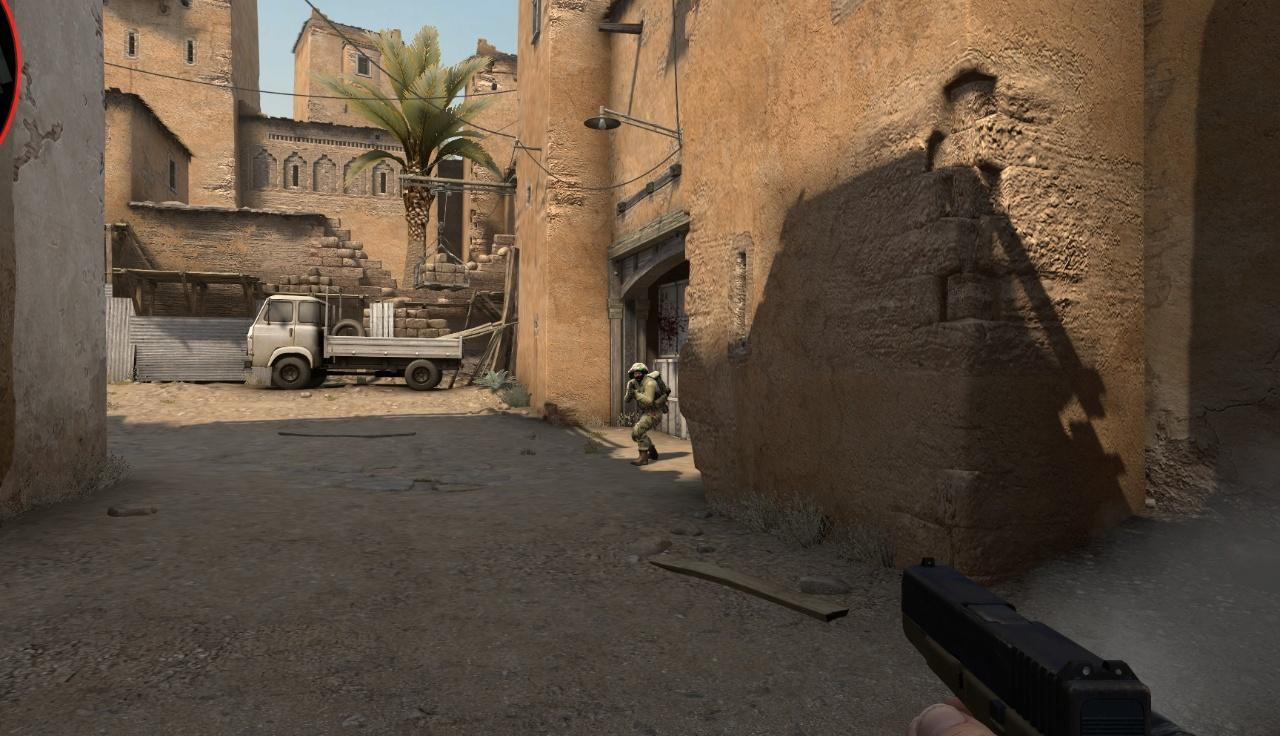ct: (625, 363, 664, 465)
cthead: (628, 363, 646, 382)
pistol: (898, 559, 1160, 735)
